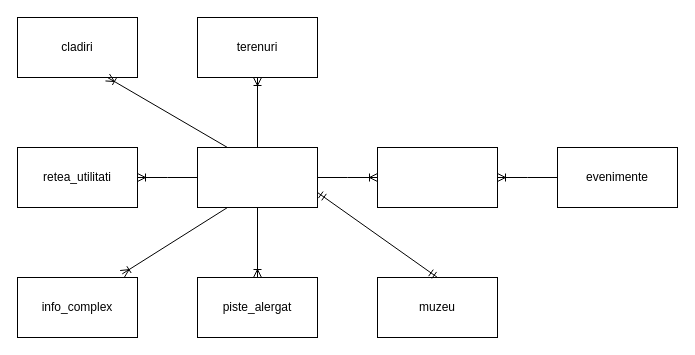
The diagram is 695 pixels wide and 355 high, and some of its shapes have lost their labels. Here are the shapes that lost their labels. From the top down, the centre of each, then its label:
At point 257,177: "complex_sportiv".
At point 437,177: "evenimente_complex".
